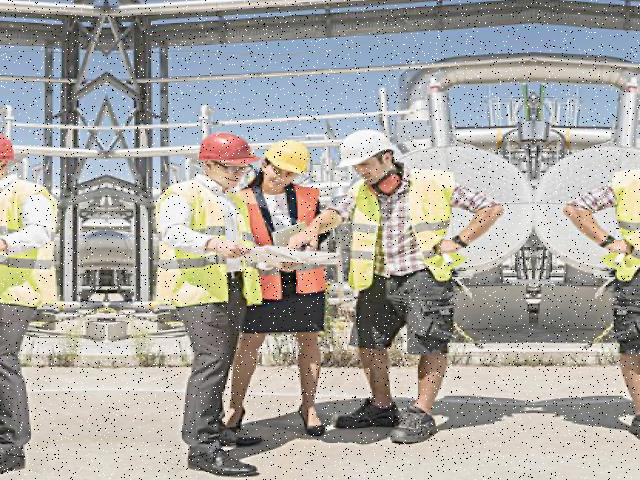Helmet: (331, 125, 399, 170), (192, 127, 258, 173), (258, 136, 313, 180)
